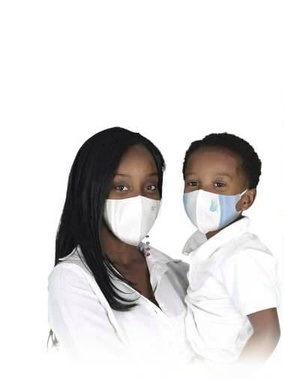face_mask: (104, 146, 159, 244), (185, 148, 241, 235)
